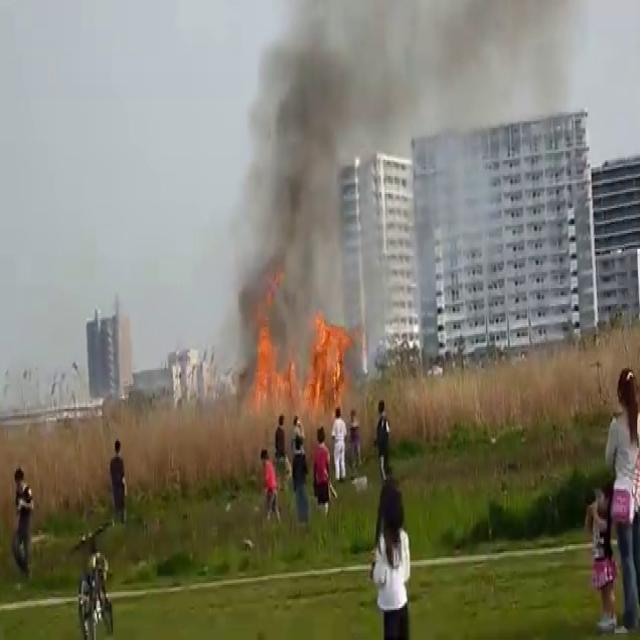Fire: (242, 298, 354, 422)
Smoke: (226, 0, 503, 350)
